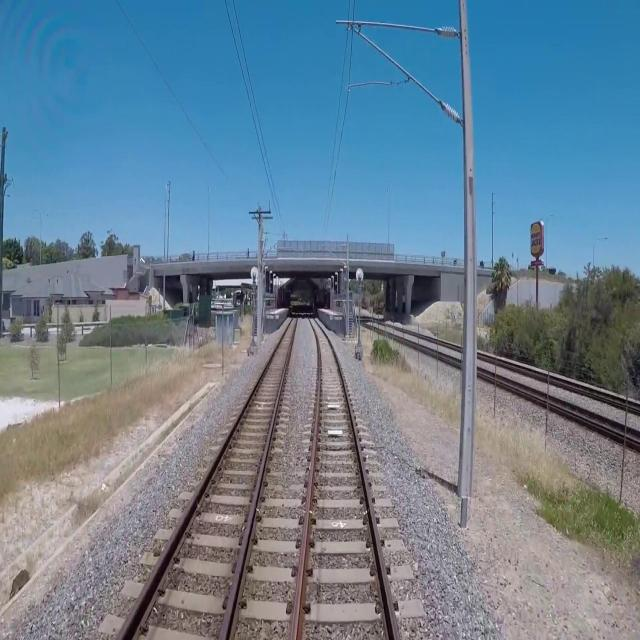rail-track: (122, 311, 297, 639), (296, 315, 395, 639)
